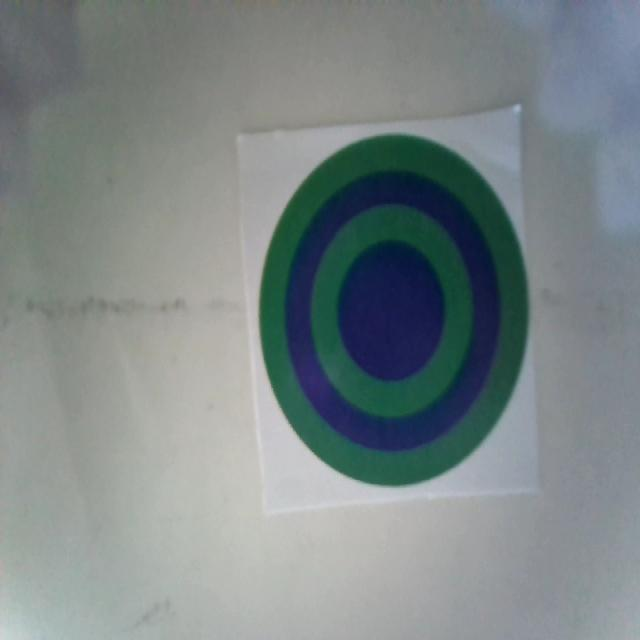cogn: (256, 132, 526, 489)
